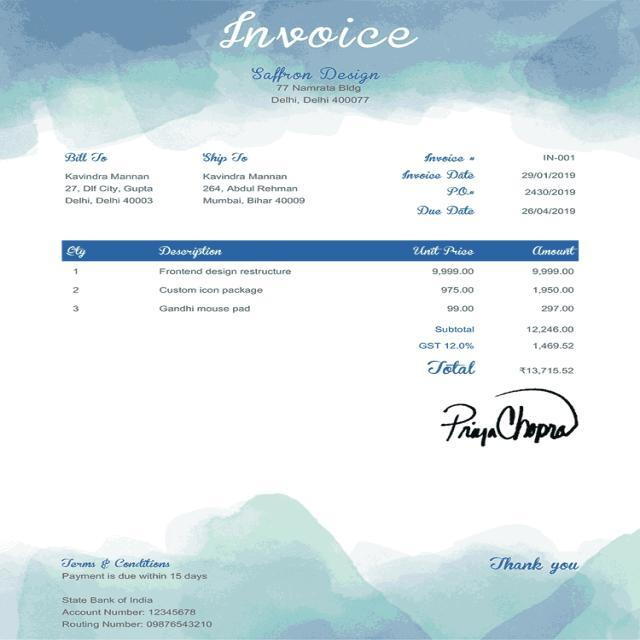ROI: (62, 237, 578, 317), (395, 147, 583, 222), (54, 552, 221, 635), (411, 321, 581, 380), (214, 7, 420, 55), (435, 385, 582, 451), (193, 139, 315, 212), (57, 142, 160, 212), (246, 60, 387, 109), (486, 552, 584, 578)
